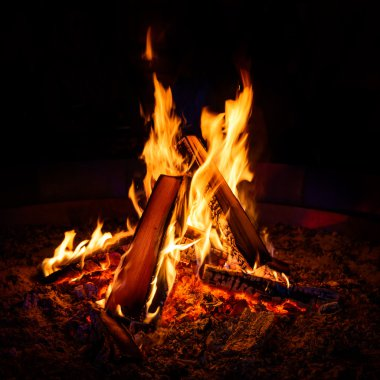fire: (132, 56, 262, 284), (42, 216, 117, 266)
